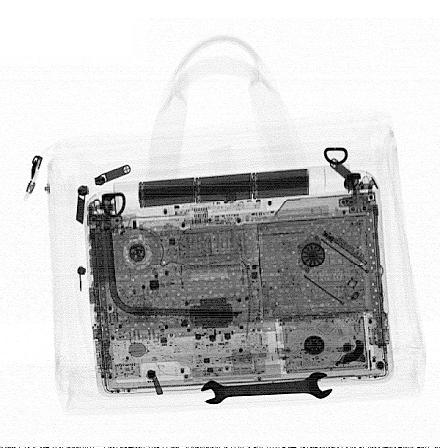Wrench: (198, 369, 334, 406)
